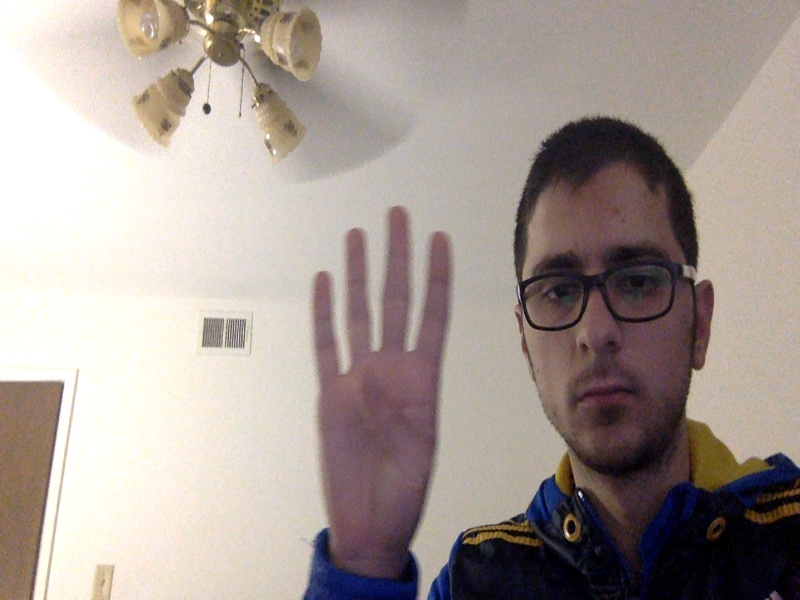4-hand: (309, 206, 454, 556)
